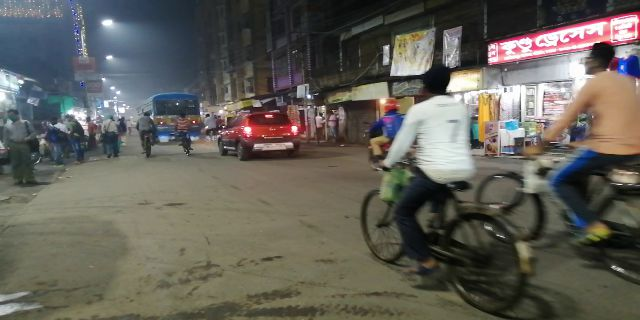Bus: (142, 89, 202, 144)
Car: (215, 105, 304, 161)
Cycle: (358, 66, 534, 315), (476, 43, 640, 278), (134, 110, 162, 159), (172, 112, 196, 158)
